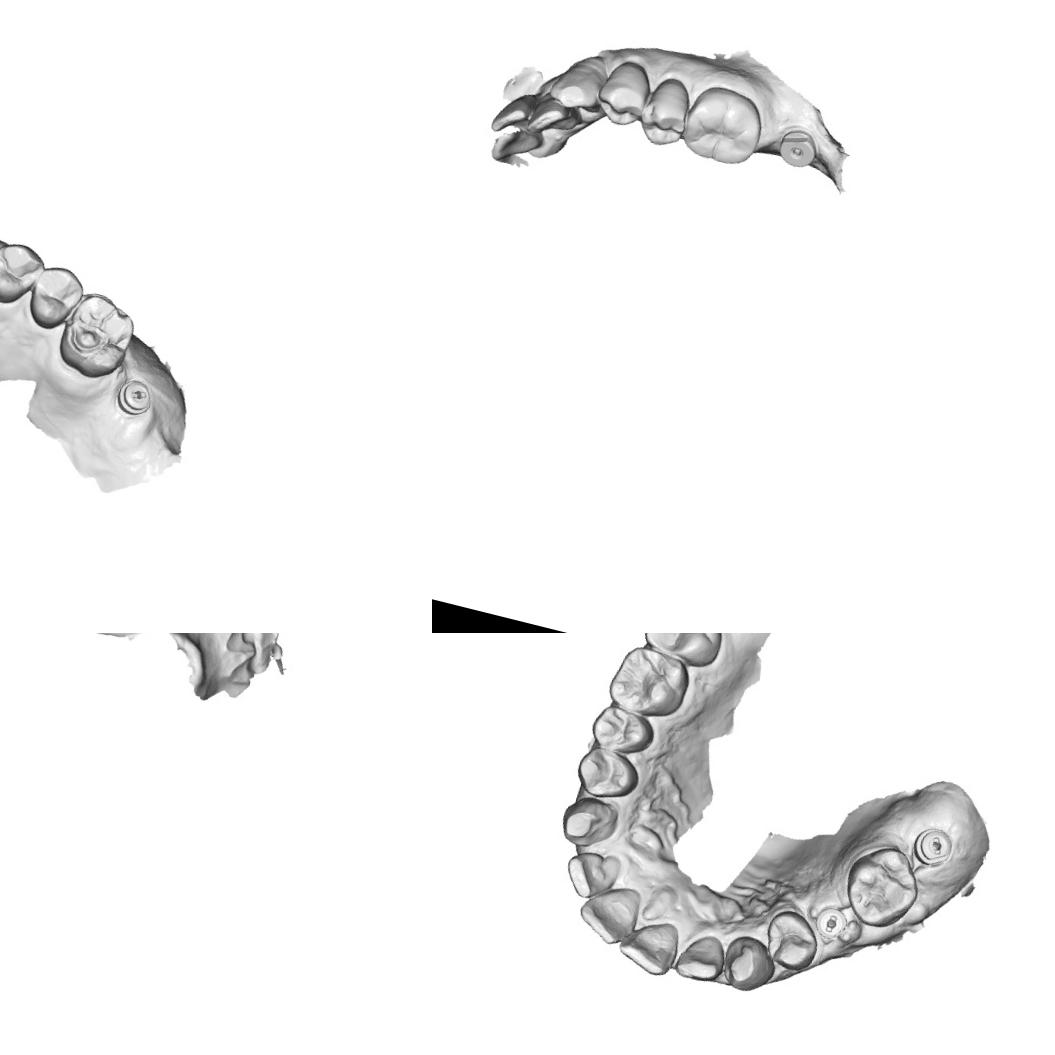canine: (546, 44, 613, 115), (554, 789, 624, 856), (714, 929, 780, 998)
implant: (774, 125, 820, 171)
implant_minus: (906, 820, 960, 873), (111, 373, 157, 421), (808, 900, 854, 946)
incisor: (571, 875, 648, 952), (611, 910, 685, 980), (558, 844, 625, 906), (670, 926, 731, 988), (488, 82, 541, 140), (487, 121, 544, 170), (525, 87, 576, 140), (223, 633, 284, 661)
molar: (834, 834, 930, 936), (51, 286, 142, 384), (676, 79, 770, 170), (601, 638, 697, 726), (635, 633, 730, 673)
premolar: (755, 902, 826, 980), (568, 740, 647, 808), (22, 259, 90, 336), (584, 696, 662, 762), (591, 54, 655, 130), (635, 72, 696, 150), (0, 235, 50, 312)
